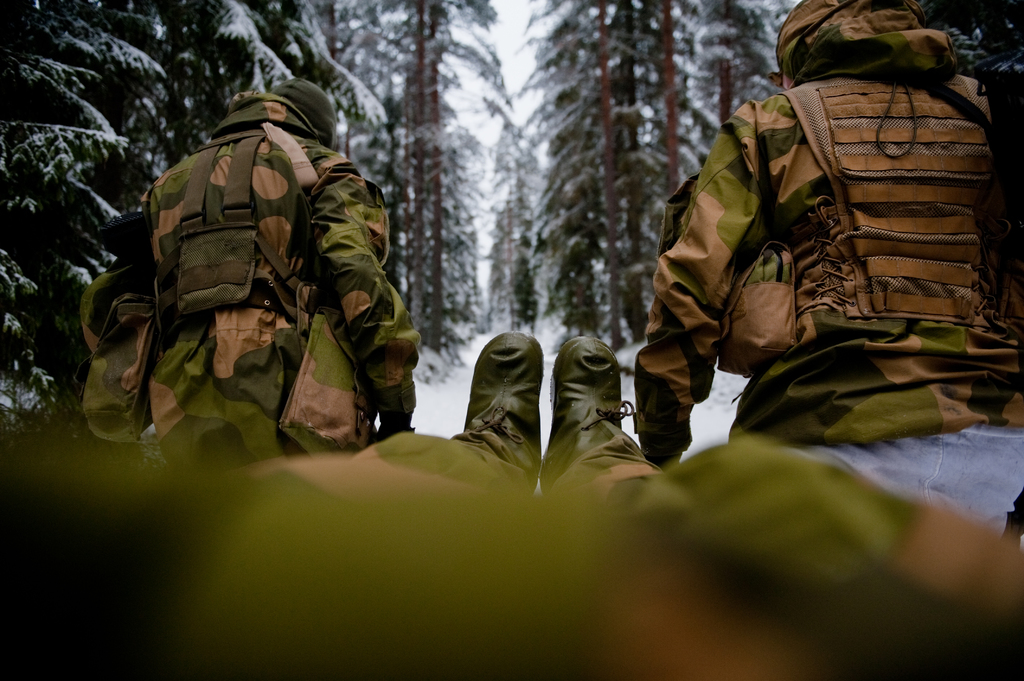Footwear: (552, 323, 645, 483), (459, 333, 541, 492)
